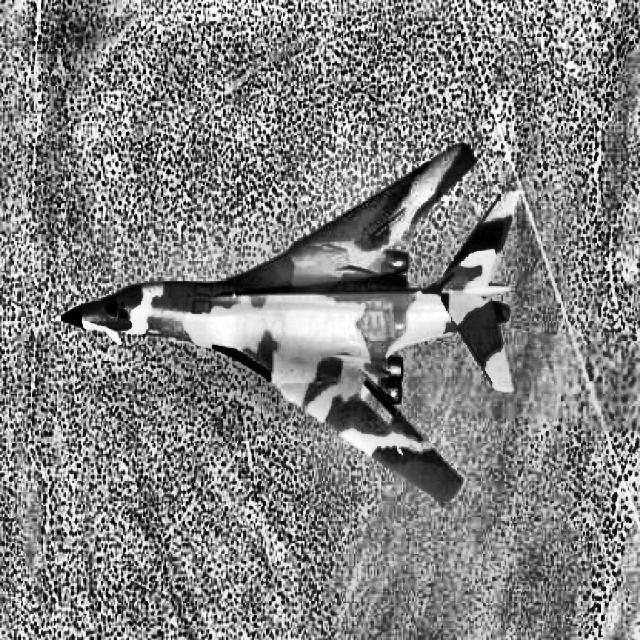B1: (51, 139, 522, 507)
